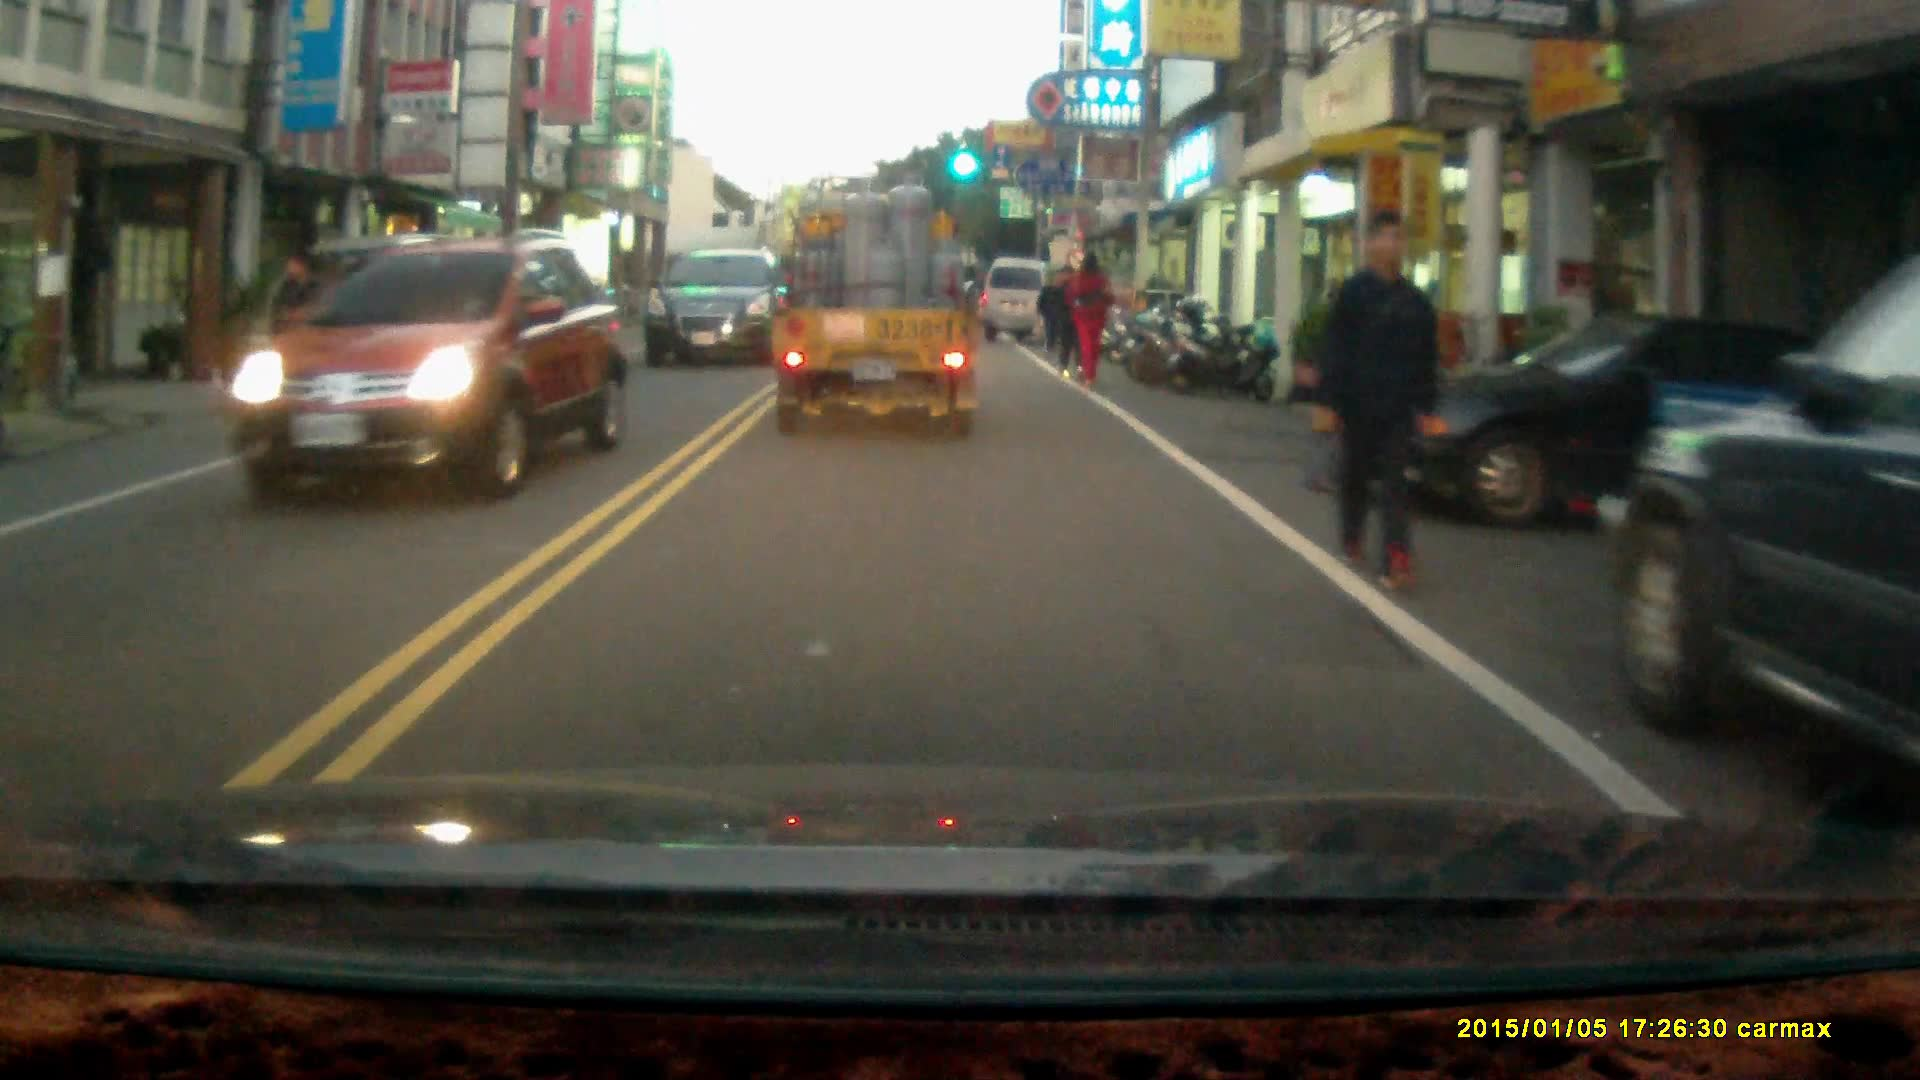pedestrian: (1313, 208, 1447, 592), (265, 249, 326, 415), (1070, 248, 1110, 385), (1030, 267, 1065, 354)
vehicle: (1606, 253, 1920, 776), (1358, 312, 1879, 533), (225, 236, 630, 504), (771, 201, 985, 477), (643, 249, 788, 374), (984, 260, 1064, 348)
